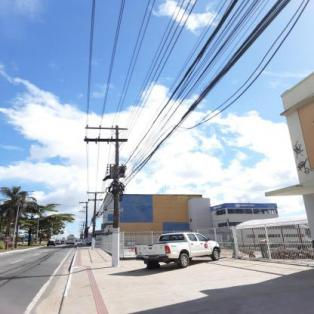Poste: (111, 125, 121, 266), (91, 192, 97, 249), (84, 202, 88, 246)
